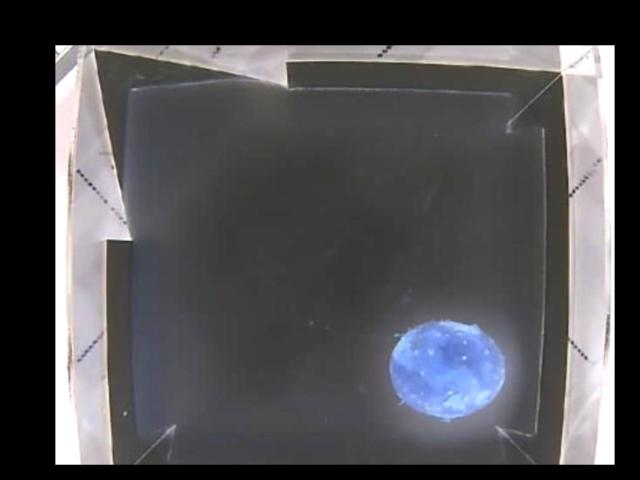Potato: (392, 321, 507, 420)
